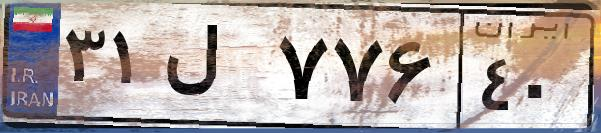0: (525, 38, 570, 115)
1: (110, 28, 158, 98)
3: (57, 26, 110, 100)
4: (475, 38, 525, 113)
6: (385, 28, 445, 110)
7: (270, 28, 330, 110), (330, 28, 385, 110)
ل: (158, 20, 270, 120)
